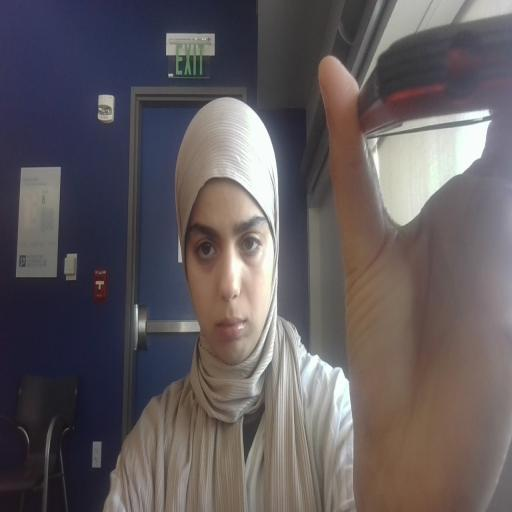phone: (329, 7, 511, 146)
